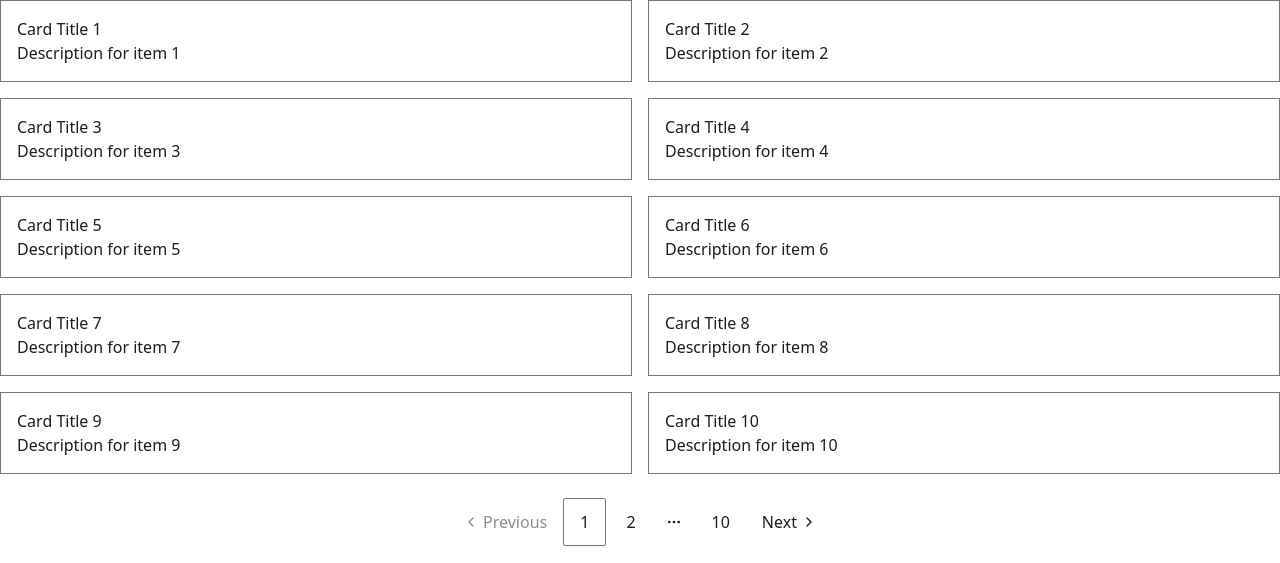
Test: CardTable › Complex Pagination (Ellipsis) › adjusts visible pages when navigating to the middle
// Advance to page 5
Click the link with aria-label "Go to next page": (789, 522) [762, 511, 817, 533]
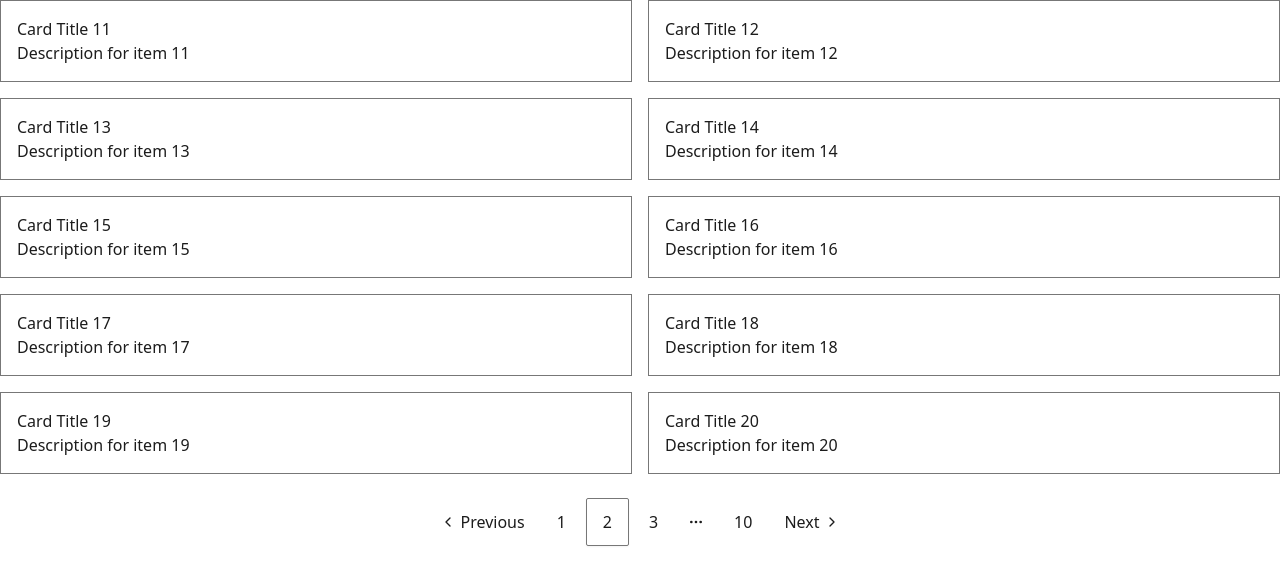
Click the link with aria-label "Go to next page": (812, 522) [784, 511, 840, 533]
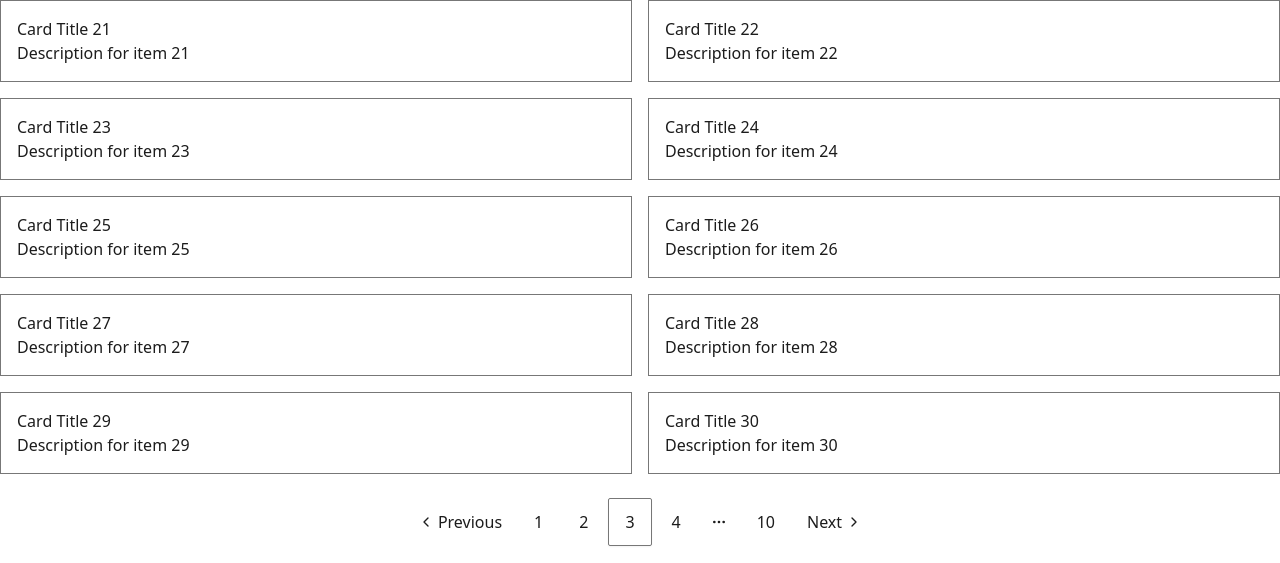
Click the link with aria-label "Go to next page": (835, 522) [807, 511, 862, 533]
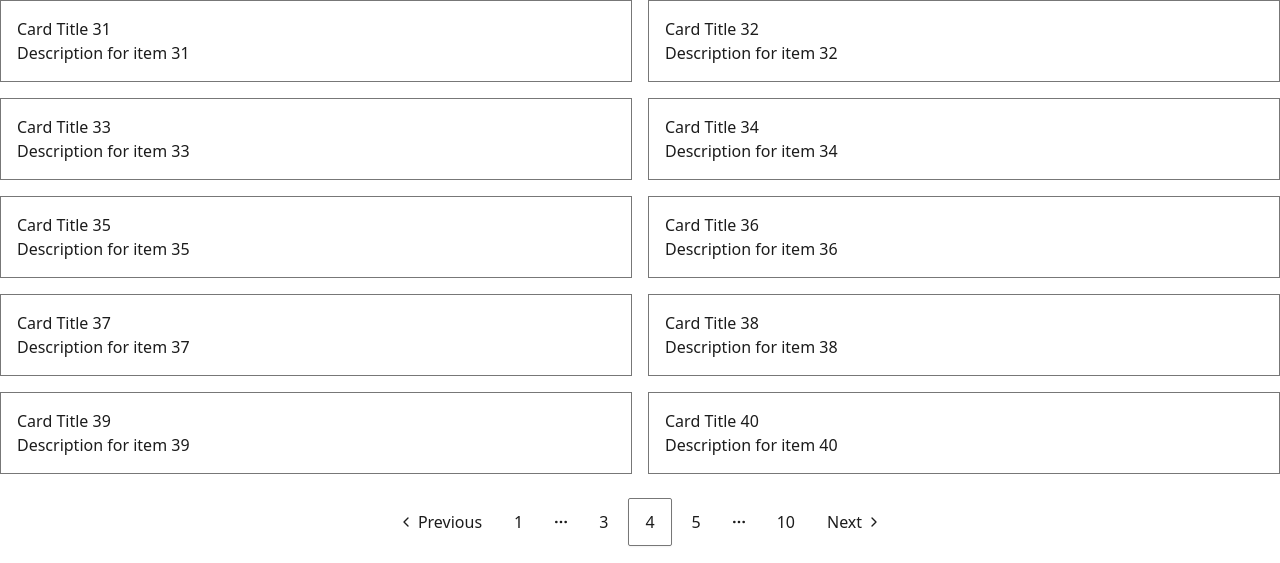
Click the link with aria-label "Go to next page": (855, 522) [827, 511, 882, 533]
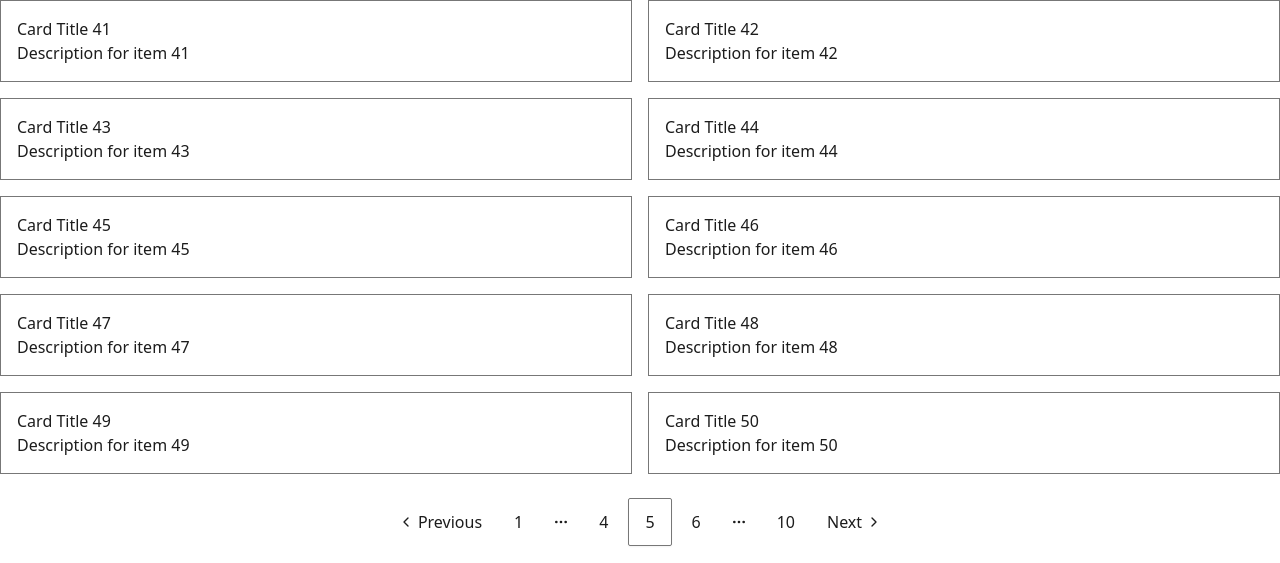
Expected: the link "4" is shown, [599, 511, 608, 533]
Expected: the link "5" is shown, [628, 498, 672, 546]
Expected: the link "6" is shown, [692, 511, 701, 533]
